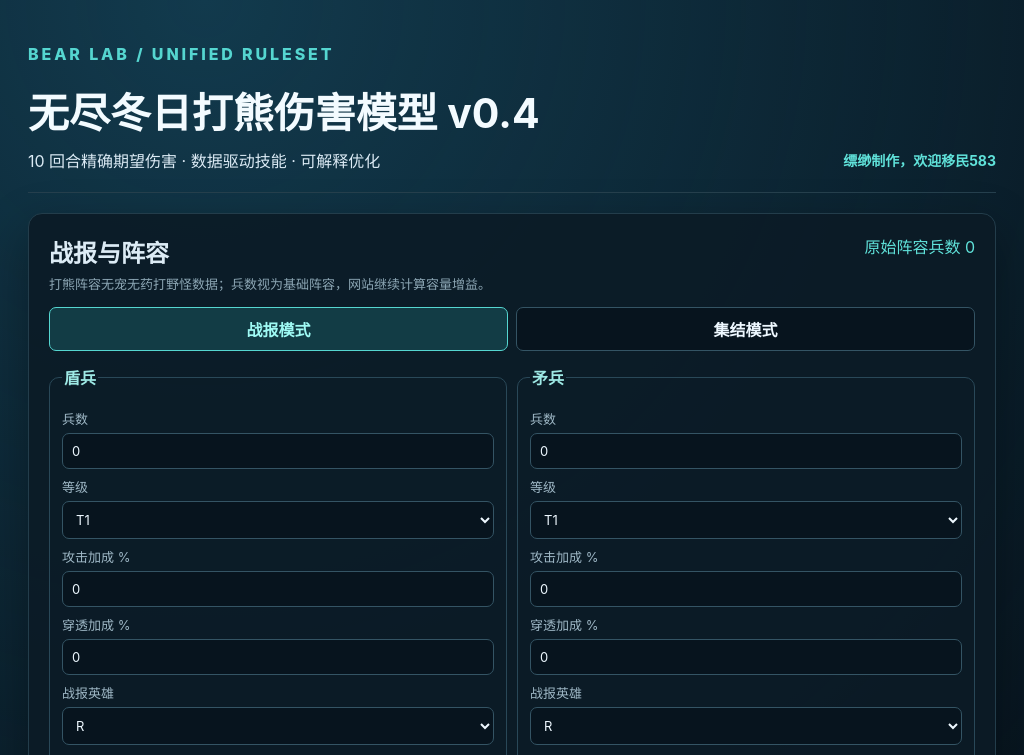
Scenario: 计算器UI有限选项与技能说明 › 战报模式按兵种展示数据驱动战报英雄和0至10级专武
Select "尼莫（S1）" in the dropdown named "盾兵战报英雄" at (278, 726), box [62,707,494,745]
(page scrolled)
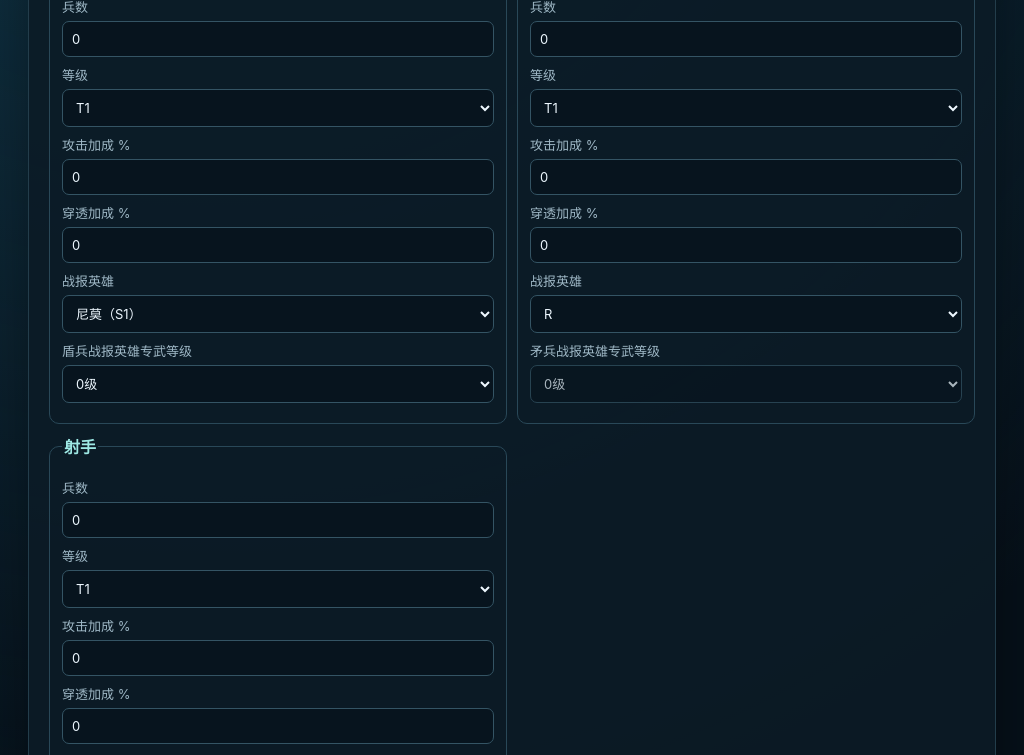
Now the dropdown labelled "盾兵战报英雄专武等级" is enabled, box [62,365,494,403]
